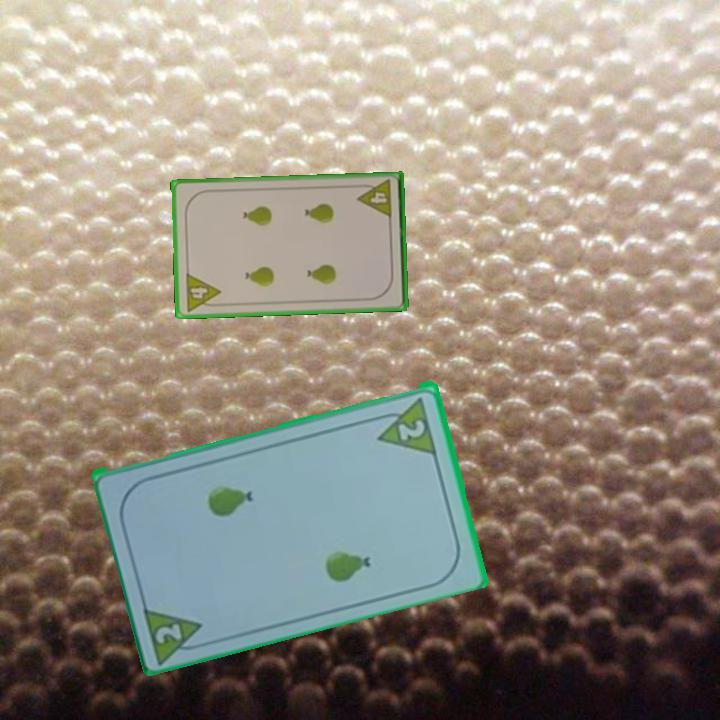2p: (139, 600, 212, 664), (395, 415, 428, 443)
4p: (182, 270, 224, 314), (354, 176, 395, 221)
